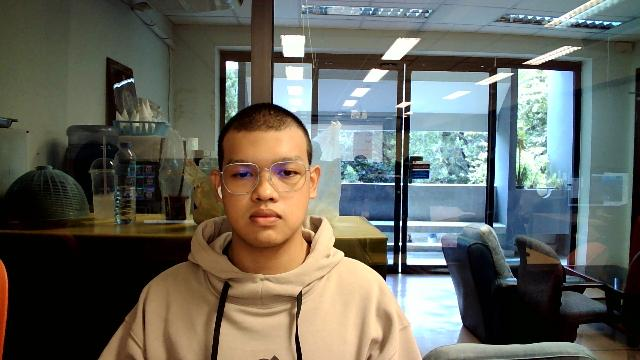fokus: (207, 101, 323, 251)
